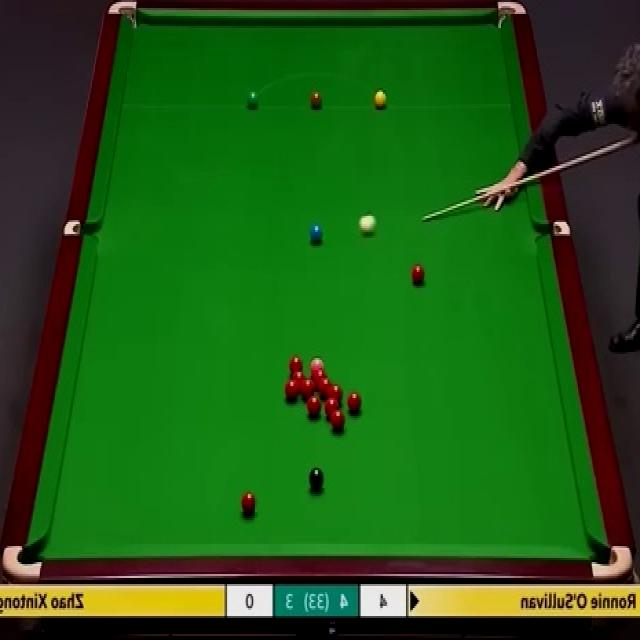pocket: (1, 540, 45, 585), (589, 546, 633, 582), (495, 0, 531, 34), (110, 0, 139, 32), (67, 220, 103, 235), (540, 220, 574, 235)
